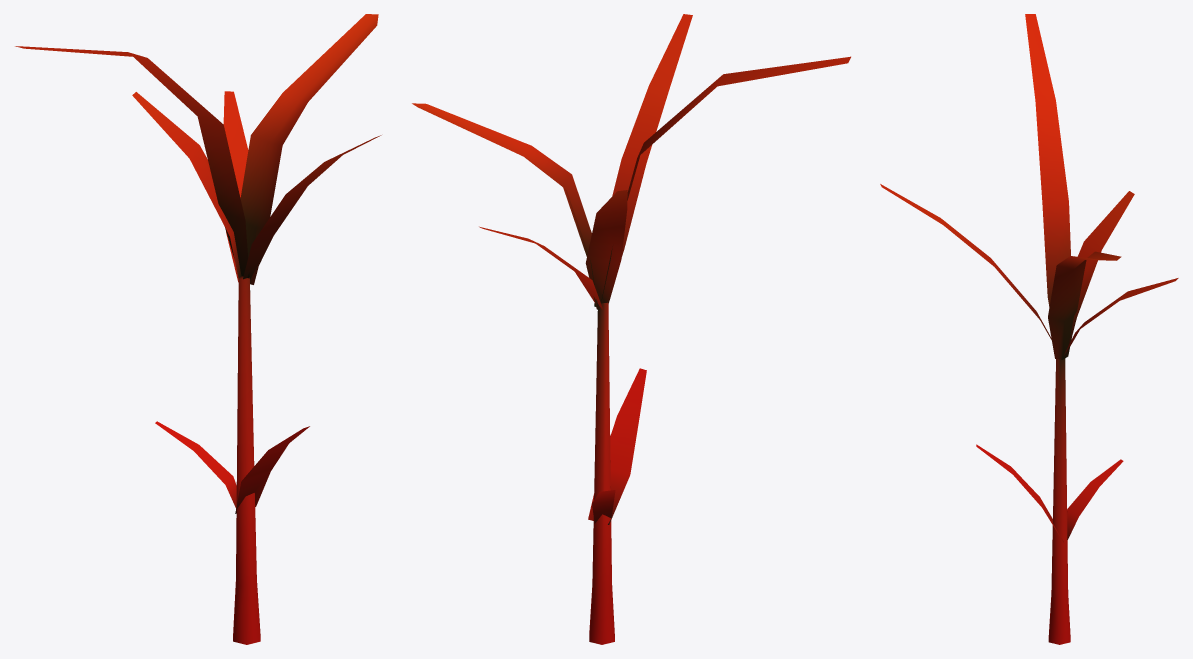
The model's file is SM_SugarCanePlants_5.fbx.
The picture shows the model from 3 angles, left to right: view 1: azimuth 30°, elevation 25°; view 2: azimuth 150°, elevation 25°; view 3: azimuth 270°, elevation 25°; orthographic projection. The views are drawn at different scales.
Visible parts, largest first — view 1: SM_SugarCanePlants_5; view 2: SM_SugarCanePlants_5; view 3: SM_SugarCanePlants_5.
Part boxes in pixels (x1,y1,x2,y2): SM_SugarCanePlants_5: (15, 14, 381, 644); SM_SugarCanePlants_5: (412, 14, 850, 644); SM_SugarCanePlants_5: (880, 14, 1178, 644).
Bounding box in the file's own units: 0.5991 × 0.9169 × 0.4683.
